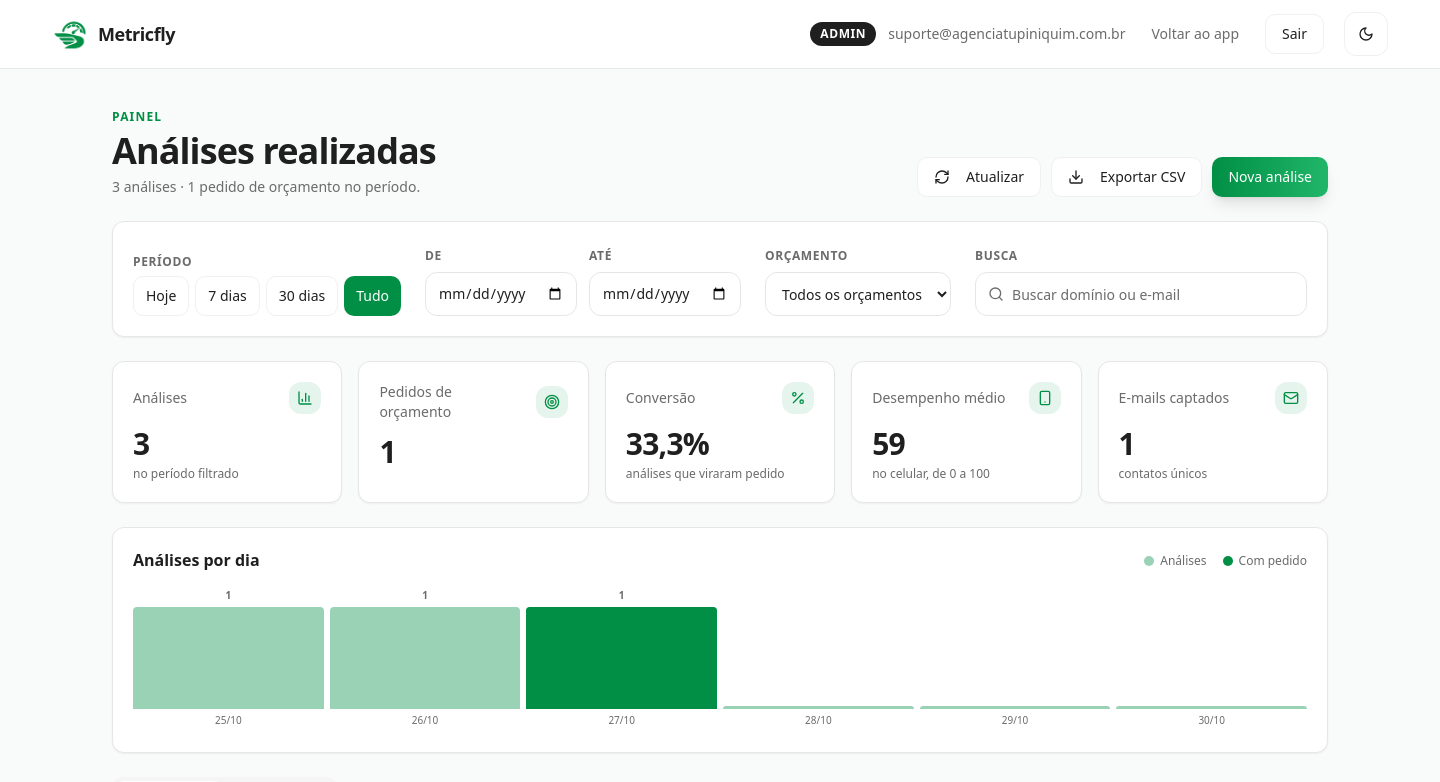
Agency admin area › filters the analyses by domain
This screenshot has width=1440, height=782.
Type "clinica" into the search field labelled "Buscar domínio ou e-mail".
click(1153, 294); type("clinica")  # box [1012, 274, 1294, 314]
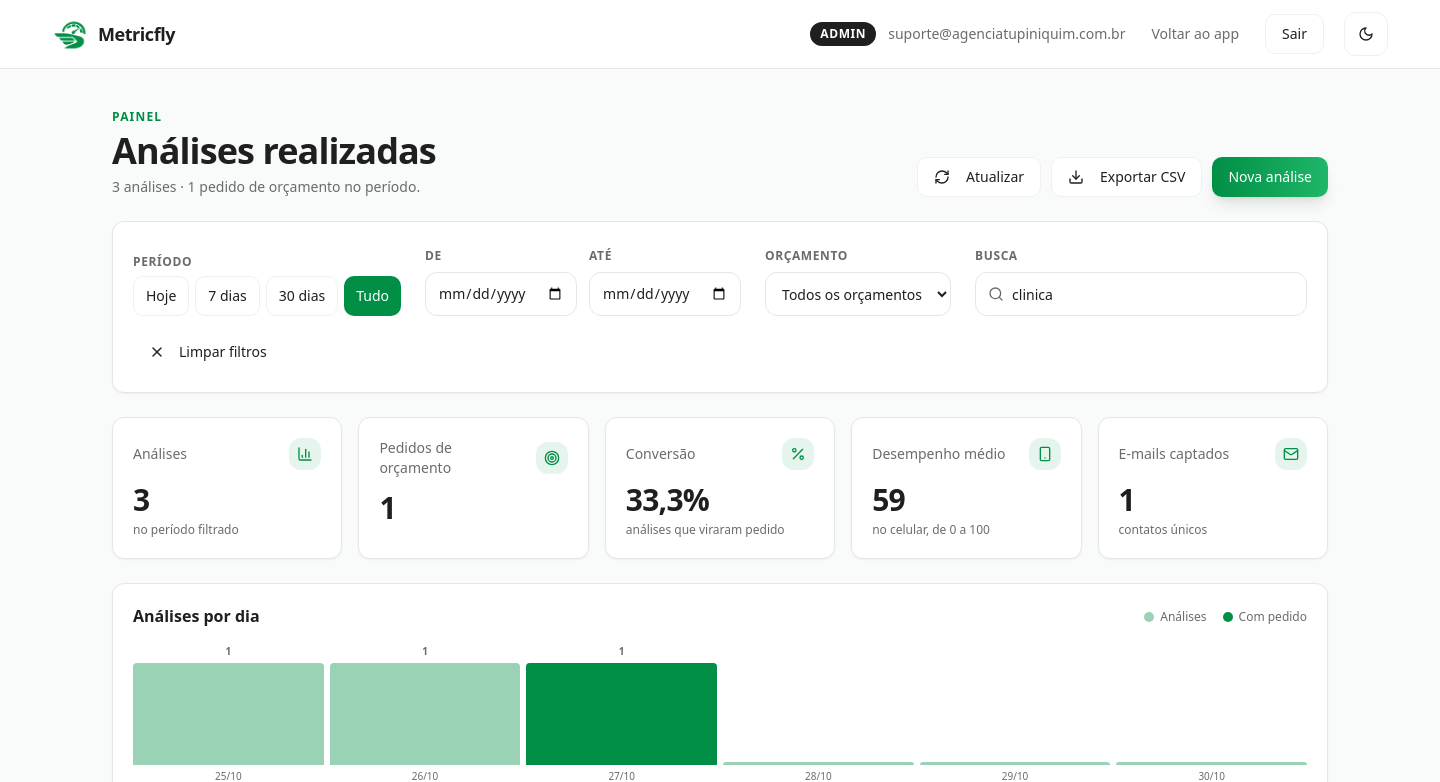
Replace the text in the search field named "Buscar domínio ou e-mail" with "nada" at (1153, 294), box [1012, 274, 1294, 314]
(page scrolled)
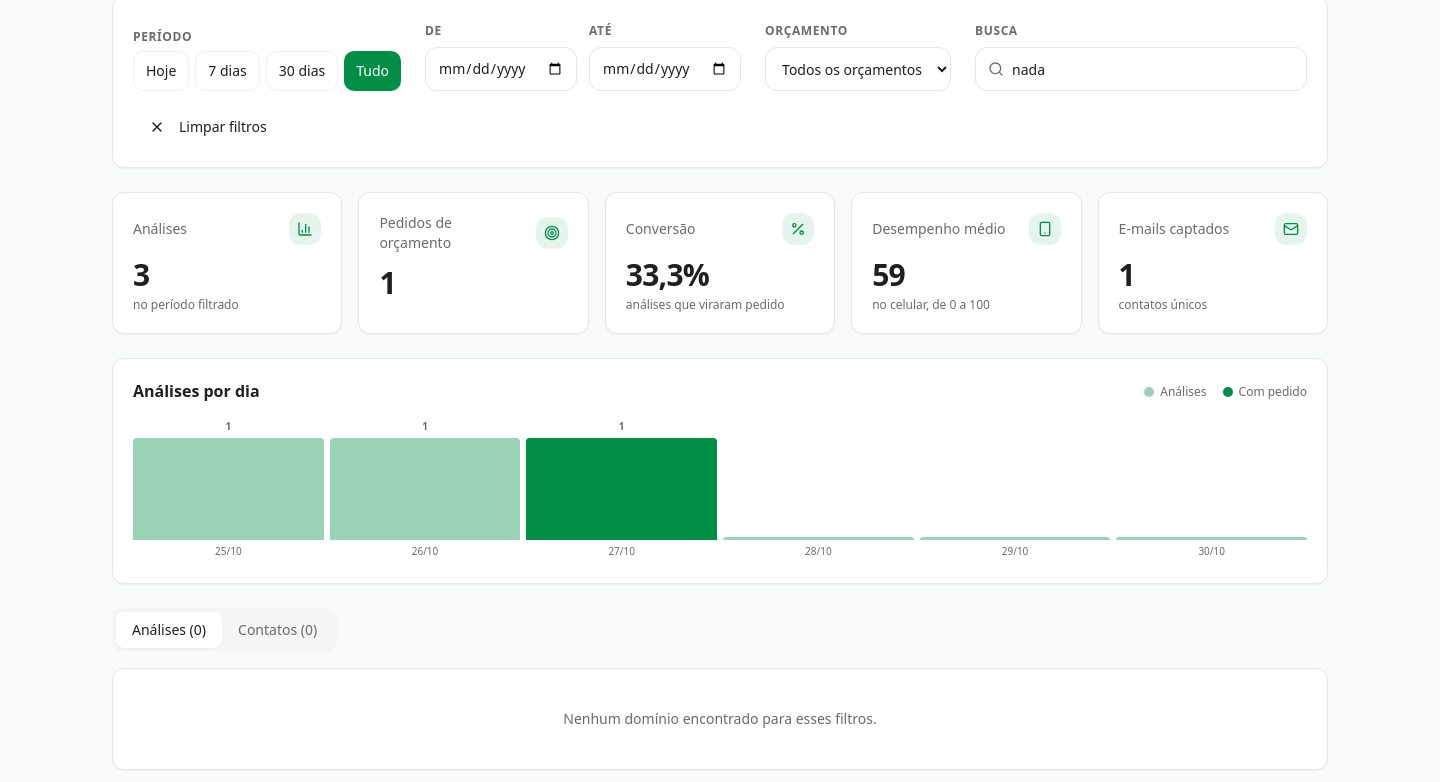
Result: the text "Nenhum domínio encontrado para esses filtros." is shown at [563, 709, 877, 728]
